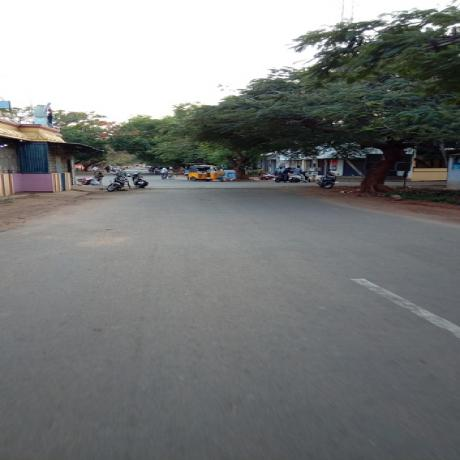Speed Bump: (128, 186, 290, 190)
